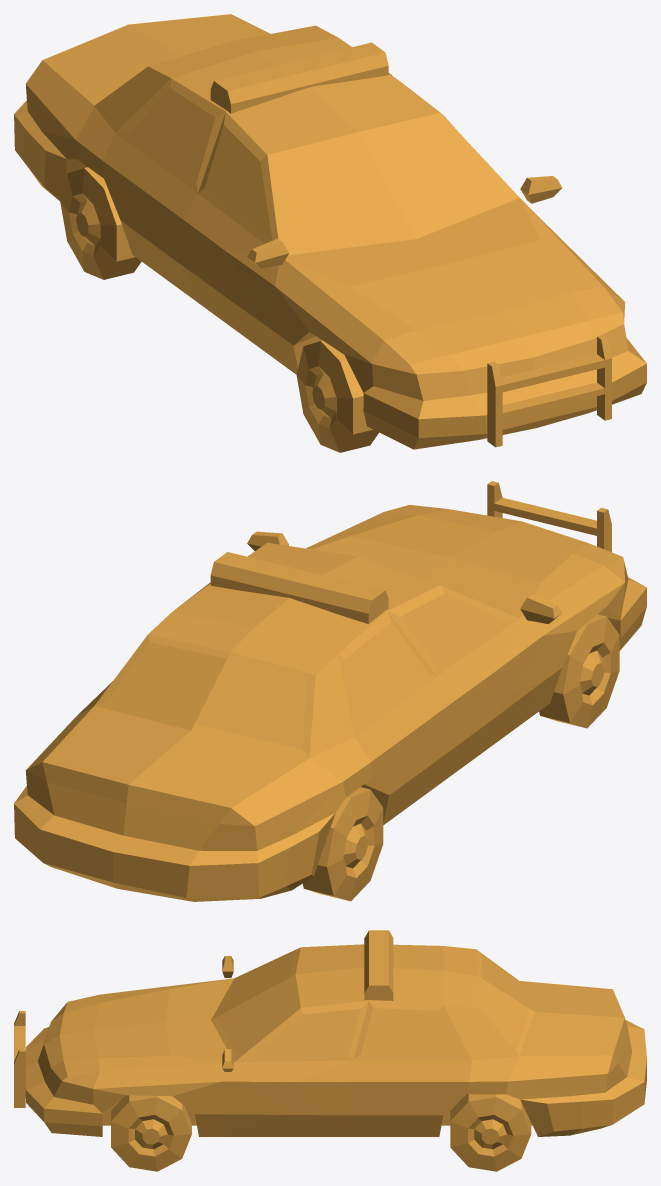
Rendered from car-police.glb.
The picture shows the model from 3 angles, top to bottom: view 1: azimuth 30°, elevation 25°; view 2: azimuth 150°, elevation 25°; view 3: azimuth 270°, elevation 25°; orthographic projection. The views are drawn at different scales.
Visible parts, largest first — view 1: car-police-base, car-police-wheel_FR, car-police-wheel_BR; view 2: car-police-base, car-police-wheel_BR, car-police-wheel_FR; view 3: car-police-base, car-police-wheel_BL, car-police-wheel_FL.
Part boxes in pixels (x1=…): car-police-base: x1=14, y1=14, x2=646, y2=449; car-police-wheel_FR: x1=296, y1=340, x2=378, y2=452; car-police-wheel_BR: x1=60, y1=167, x2=141, y2=279; car-police-base: x1=14, y1=481, x2=646, y2=901; car-police-wheel_BR: x1=302, y1=787, x2=383, y2=901; car-police-wheel_FR: x1=539, y1=614, x2=619, y2=728; car-police-base: x1=14, y1=930, x2=646, y2=1136; car-police-wheel_BL: x1=450, y1=1094, x2=531, y2=1171; car-police-wheel_FL: x1=111, y1=1095, x2=191, y2=1171.
Size of the model in its own units: 2.19 by 1.59 by 5.44.
